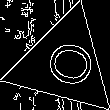O_W: (33, 36, 94, 91)
